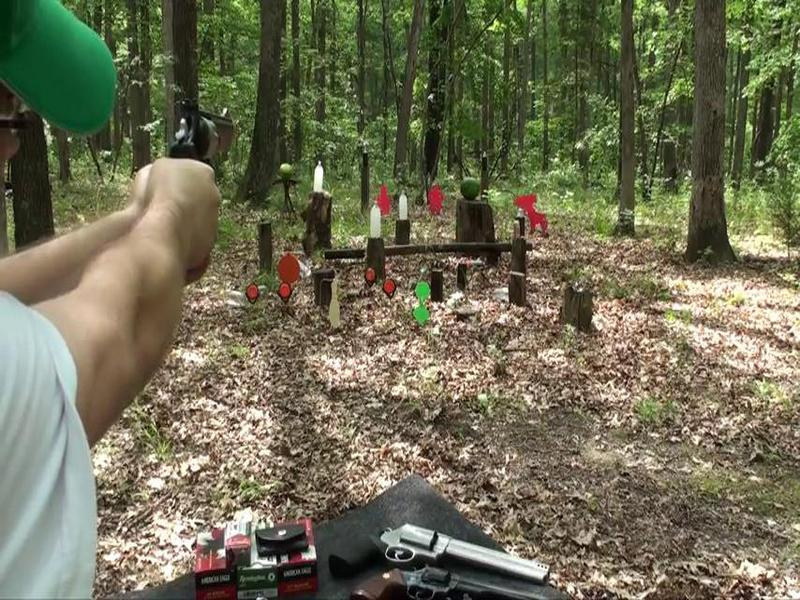Revolver: (155, 85, 246, 188)
